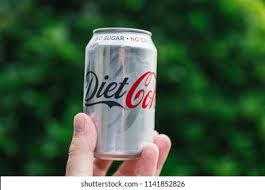can: (77, 18, 159, 166)
